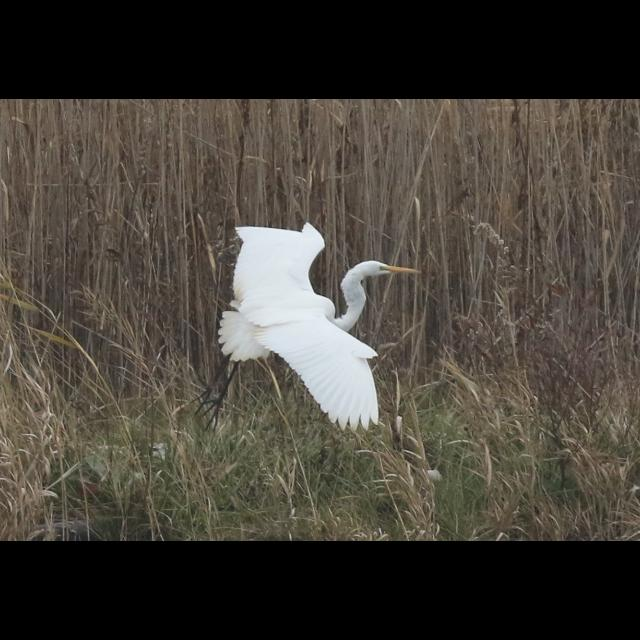egret: (188, 214, 422, 433)
